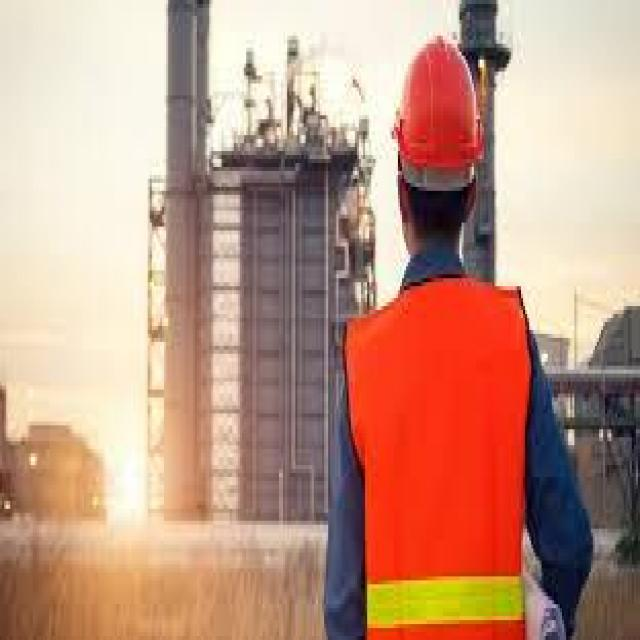Reflective-Jacket: (332, 262, 544, 640)
Safety-Helmet: (382, 28, 494, 218)
